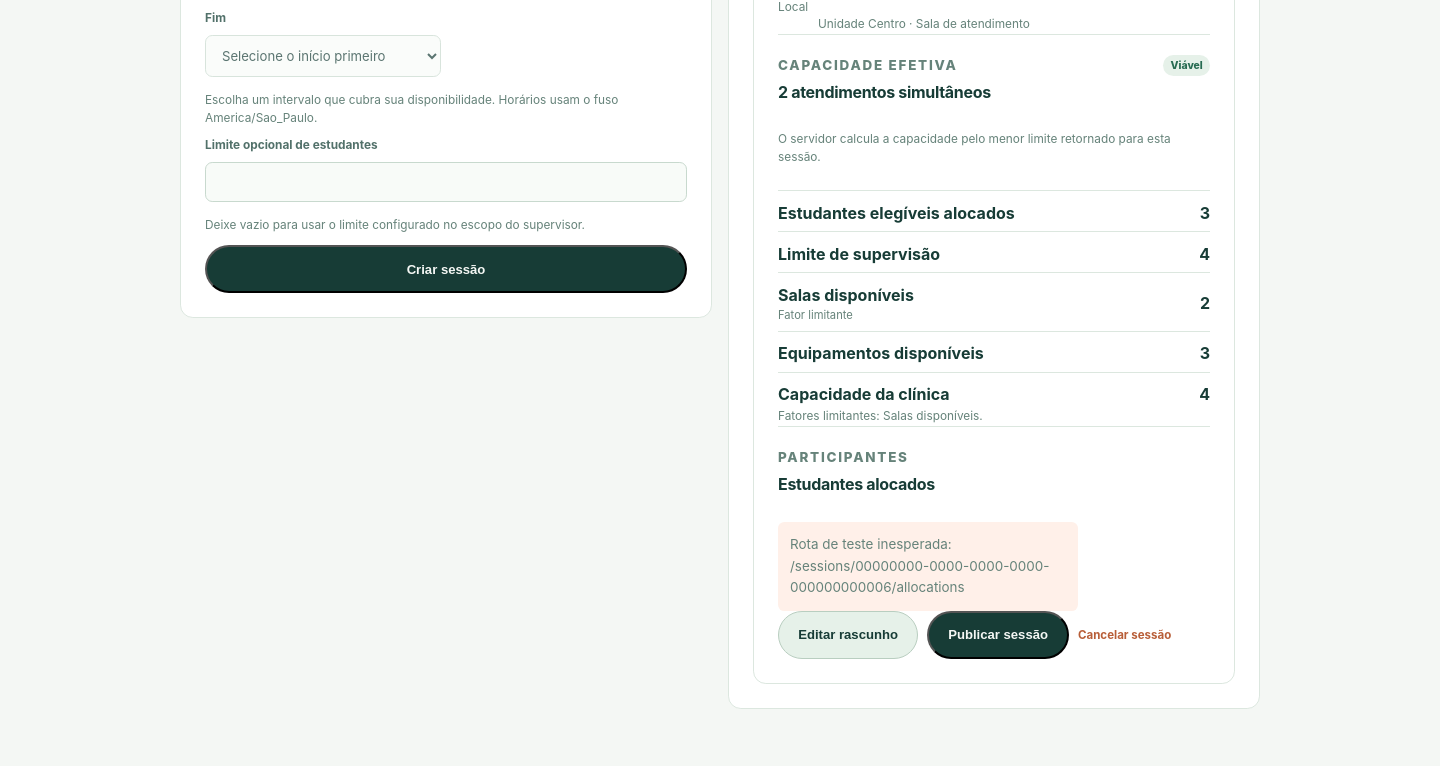
Test: scheduling › publica a sessao ao acionar o botao e mostra o novo estado
(page scrolled)
Click the button "Publicar sessão" at (998, 635), box [927, 611, 1069, 659]
(page scrolled)
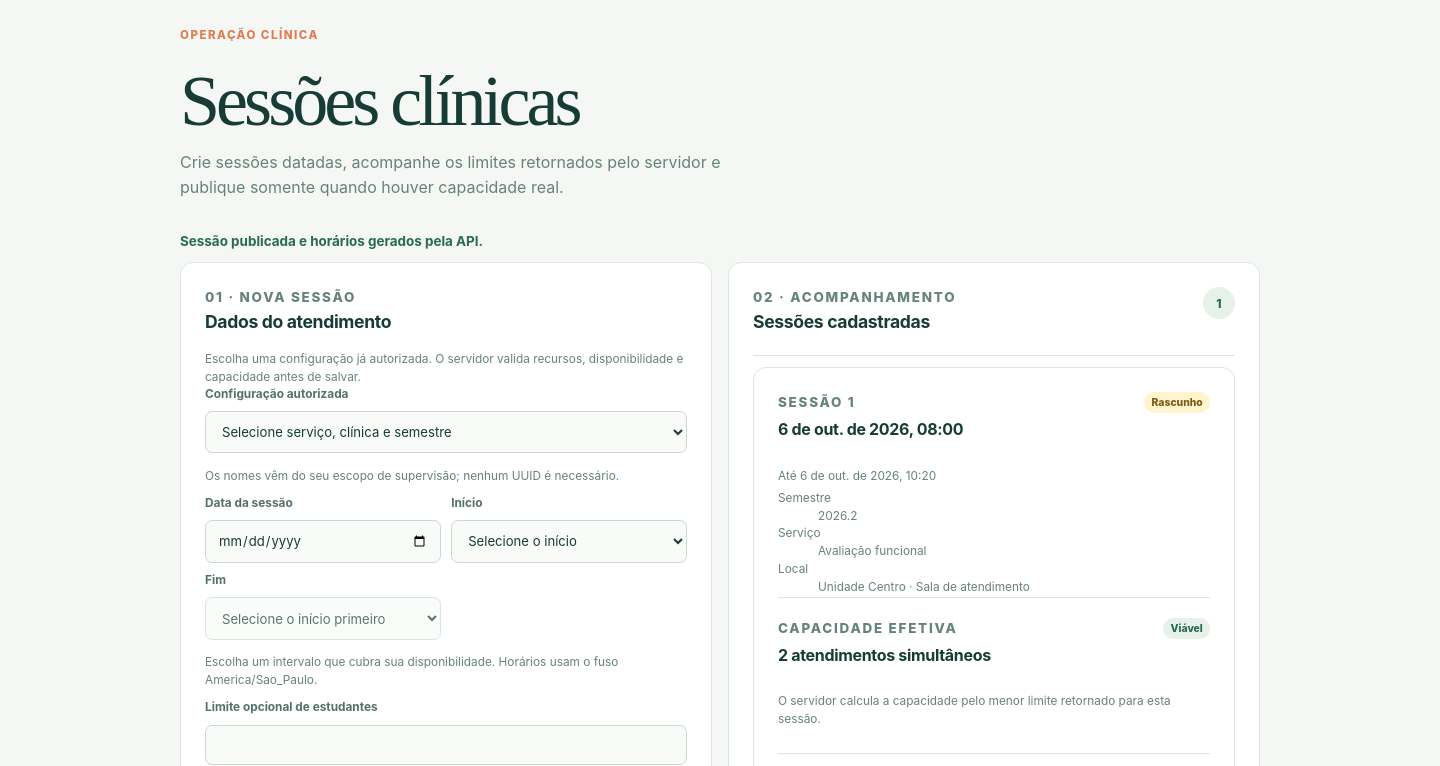
Now the text "Sessão publicada e horários gerados pela API." is shown, box [180, 233, 483, 249]
